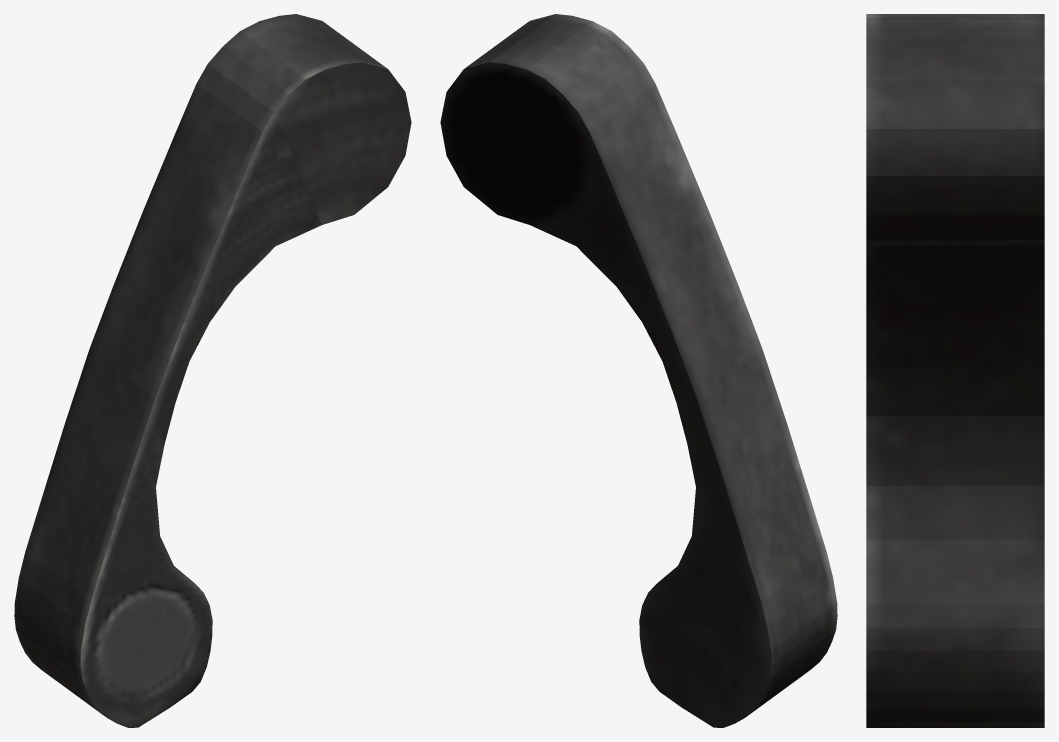
The picture shows the model from 3 angles, left to right: view 1: azimuth 30°, elevation 25°; view 2: azimuth 150°, elevation 25°; view 3: azimuth 270°, elevation 25°; orthographic projection. The views are drawn at different scales.
Parts seen in each view (by area): view 1: TW_633ec7c2a6918cb895019c6c_PZ_Import; view 2: TW_633ec7c2a6918cb895019c6c_PZ_Import; view 3: TW_633ec7c2a6918cb895019c6c_PZ_Import.
Part boxes in pixels (x1=…): TW_633ec7c2a6918cb895019c6c_PZ_Import: x1=14, y1=14, x2=411, y2=727; TW_633ec7c2a6918cb895019c6c_PZ_Import: x1=440, y1=14, x2=837, y2=727; TW_633ec7c2a6918cb895019c6c_PZ_Import: x1=866, y1=14, x2=1044, y2=727.
Bounding box in the file's own units: 0.0151 × 0.00522 × 0.0267.
1 material, 1 textured.
